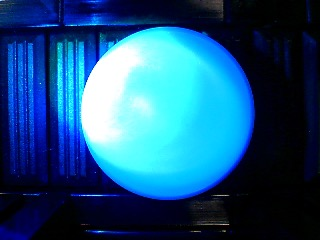BLANK: (80, 25, 255, 200)
